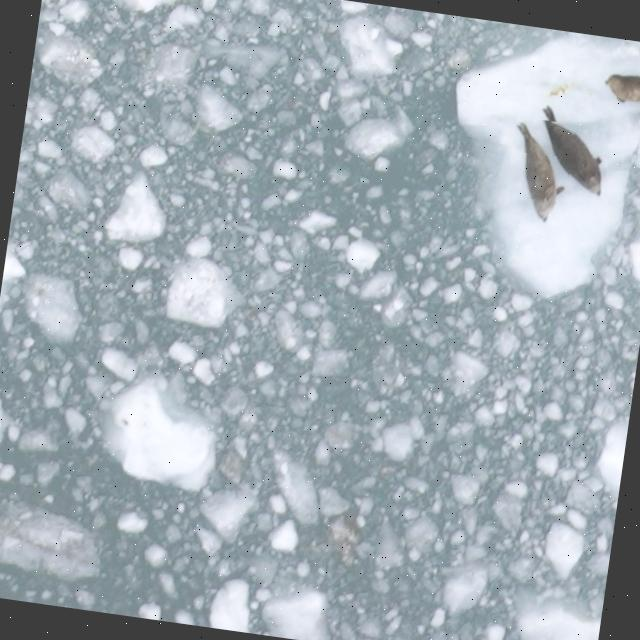seal: (527, 102, 615, 199), (502, 117, 575, 225), (597, 68, 640, 110)
